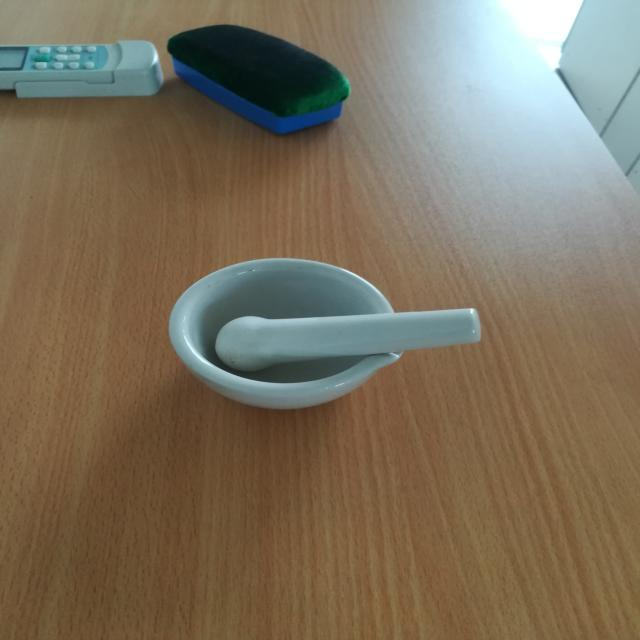Porcelain_Mortar Pestle: (110, 236, 516, 449)
